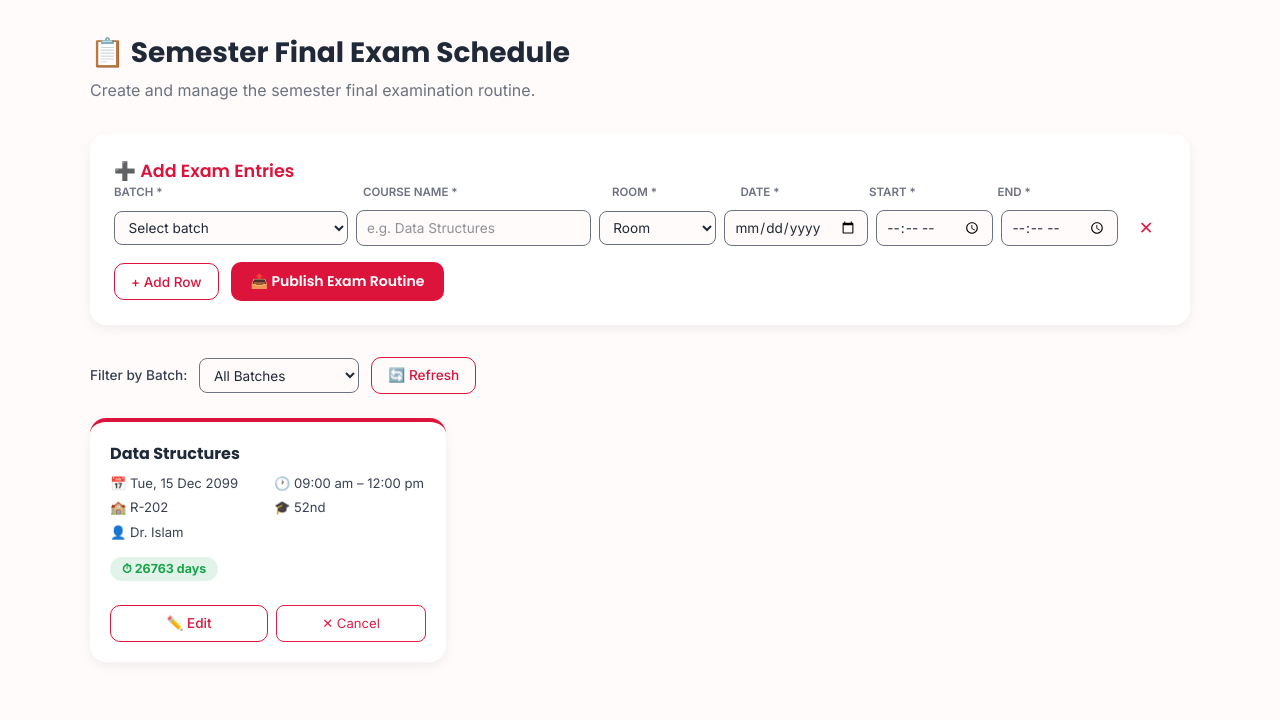
ExamSchedulePage — Admin view › opens edit modal when Edit button clicked
Click the button "✏️ Edit" at [189, 624], box 110,605 -> 268,642
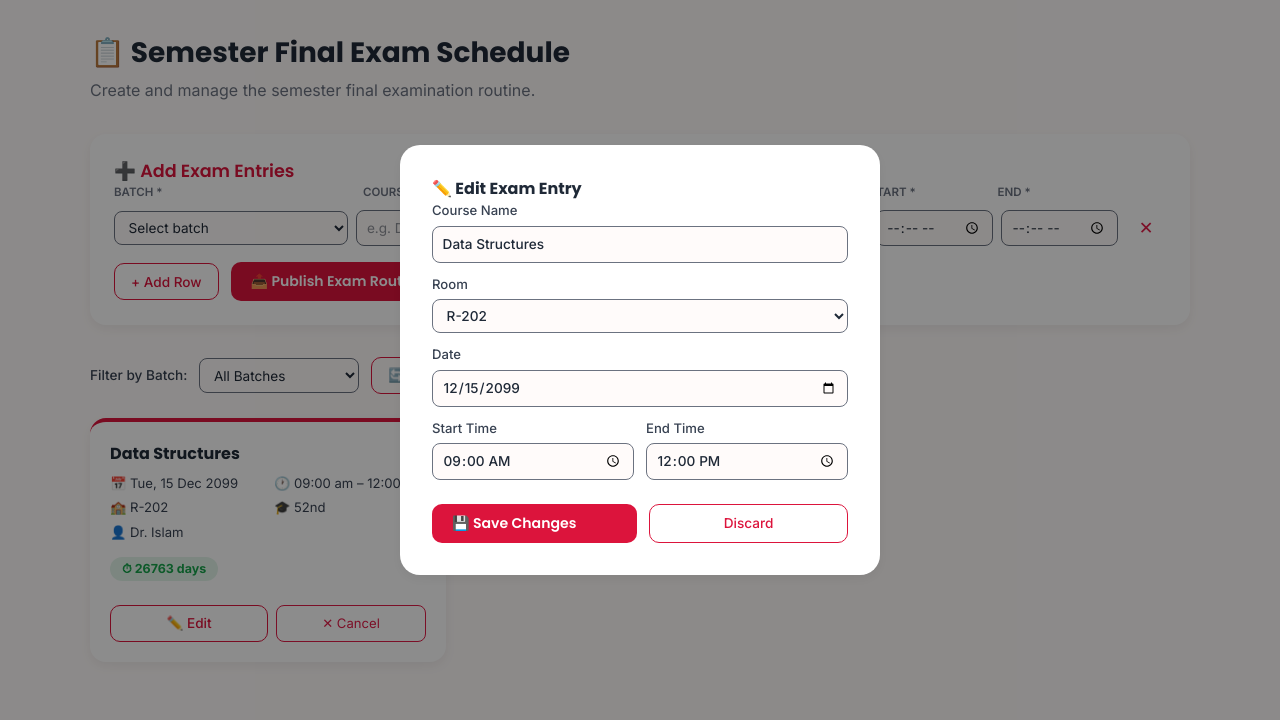
Check: the heading "✏️ Edit Exam Entry" is shown, box 432,177 -> 582,200
Check: the button "💾 Save Changes" is shown, box 432,504 -> 637,543
